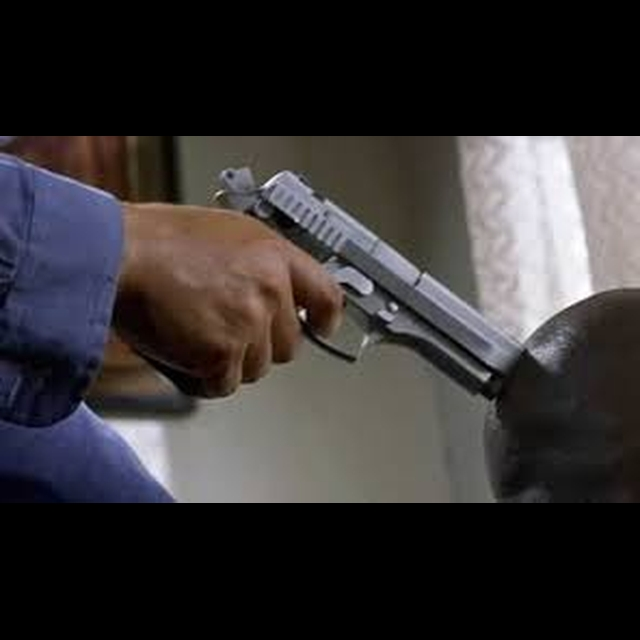SILAH: (208, 150, 534, 419)
